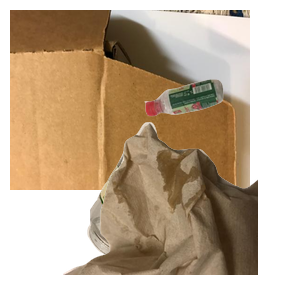cardboard: (10, 10, 250, 190)
glass: (85, 141, 275, 300)
plastic: (142, 77, 300, 186)
trash: (60, 120, 300, 300)
